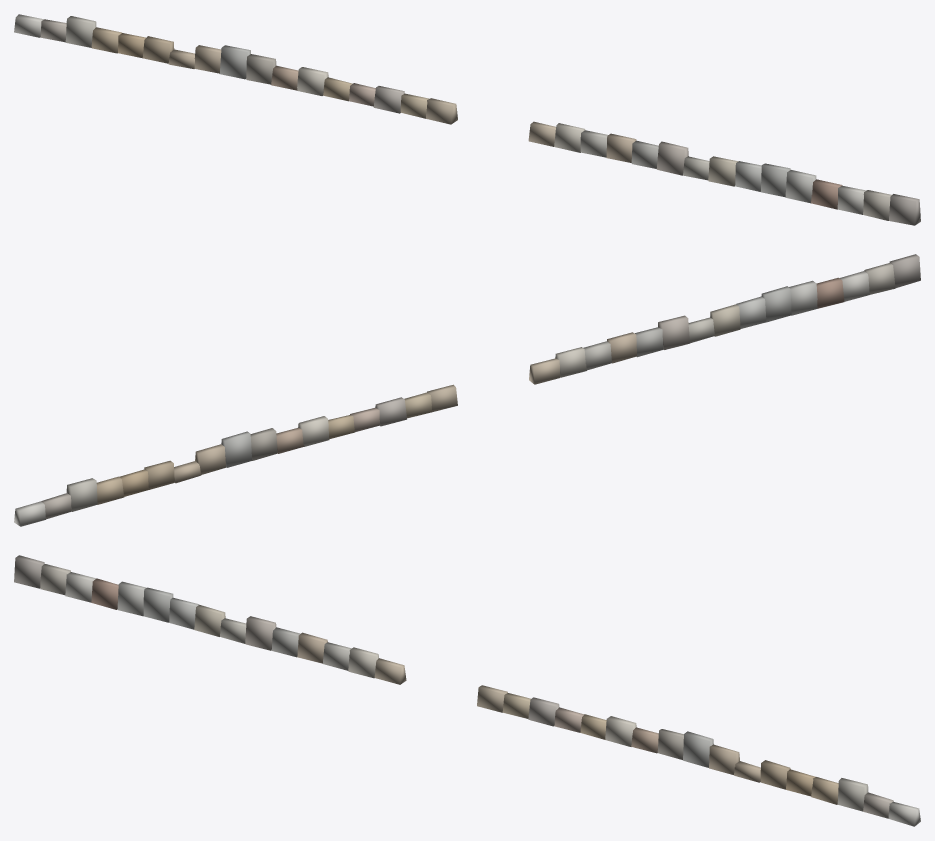
File: farm_19_20_far.glb
3 renders of one model, top to bottom at view 1: azimuth 90°, elevation 25°; view 2: azimuth 150°, elevation 25°; view 3: azimuth 270°, elevation 25°, orthographic.
Visible parts, largest first — view 1: geometry_0; view 2: geometry_0; view 3: geometry_0.
Boxes of the visible parts, x1,y1,x2,y2 form: geometry_0: [14, 14, 920, 225]; geometry_0: [14, 254, 920, 526]; geometry_0: [14, 555, 920, 826].
Size of the model in its own units: 27.99 by 2.85 by 47.97.
